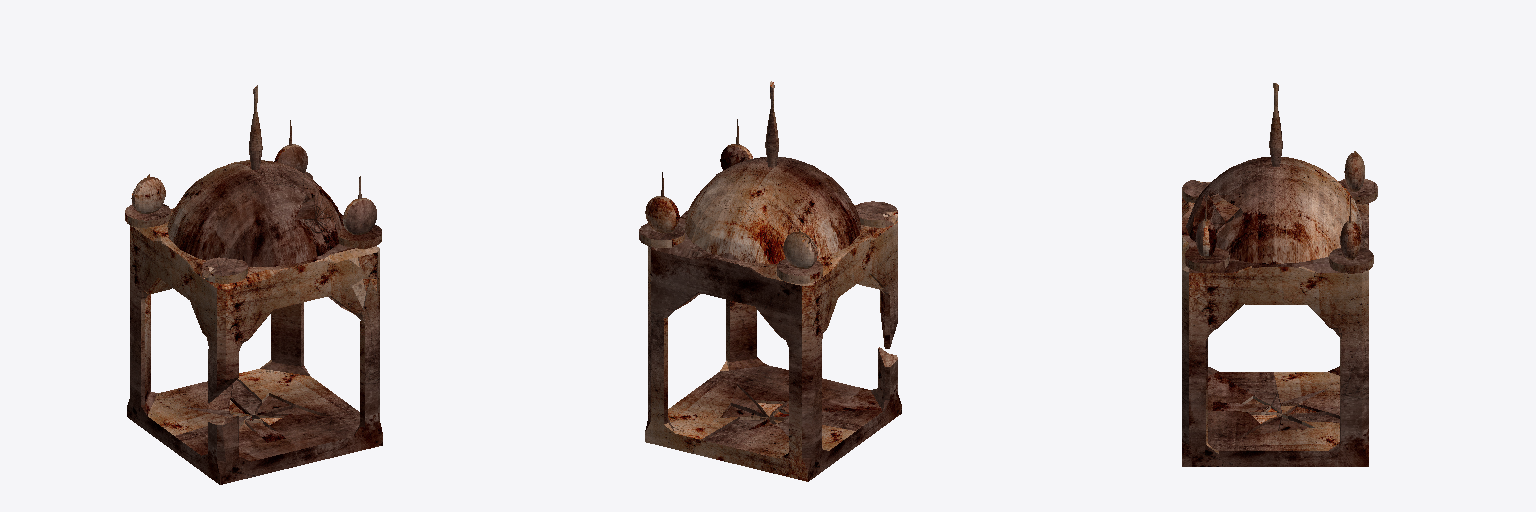
3 views of the same model, side by side, from view 1: azimuth 30°, elevation 25°; view 2: azimuth 150°, elevation 25°; view 3: azimuth 270°, elevation 25° (orthographic).
Parts seen in each view (by area): view 1: polySurface5; view 2: polySurface5; view 3: polySurface5.
Part boxes in pixels (x1,y1,x2,y2): polySurface5: (125,85,382,484); polySurface5: (639,81,901,481); polySurface5: (1182,83,1377,466).
Bounding box in the file's own units: 6.67 × 12.2 × 6.27.
1 materials, 1 textured.